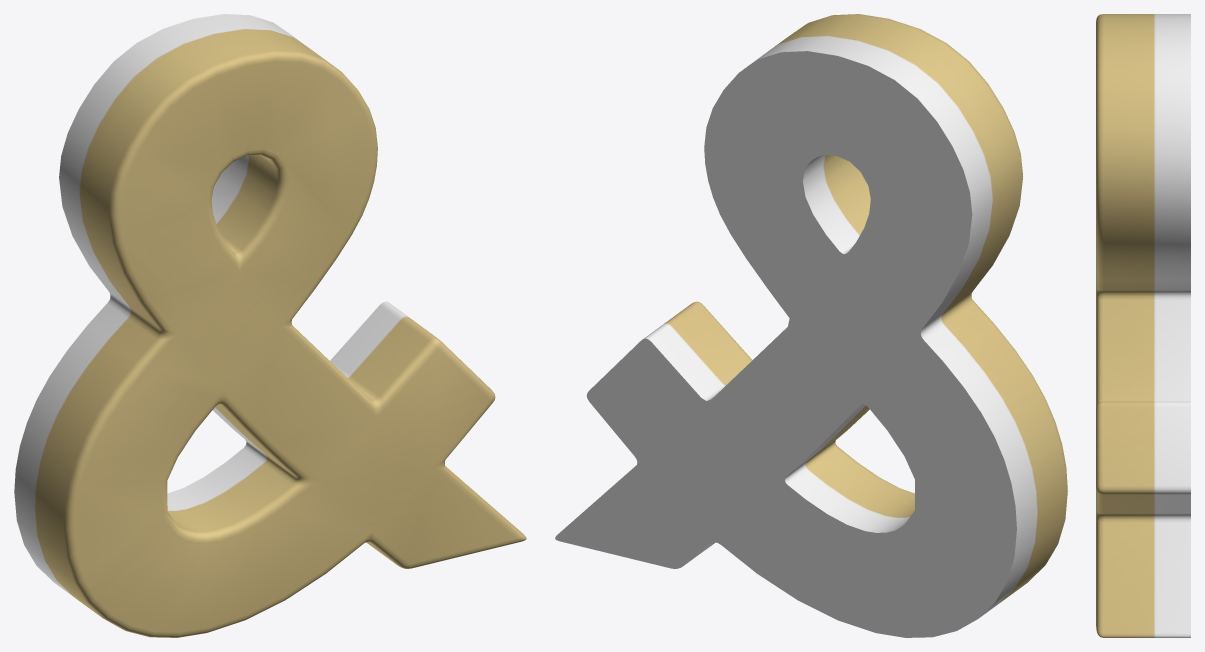
File: LettersLightUp01_S3.FBX
3 views of the same model, side by side, from view 1: azimuth 30°, elevation 25°; view 2: azimuth 150°, elevation 25°; view 3: azimuth 270°, elevation 25° (orthographic). The views are drawn at different scales.
Parts seen in each view (by area): view 1: LettersLightUp01_S3; view 2: LettersLightUp01_S3; view 3: LettersLightUp01_S3.
Boxes of the visible parts, box(x1,y1,x2,y2) form: LettersLightUp01_S3: box(14, 14, 526, 637); LettersLightUp01_S3: box(555, 14, 1067, 637); LettersLightUp01_S3: box(1096, 14, 1190, 637).
Size of what is drawn, in the model's own units: 0.5021 by 0.59 by 0.1012.
